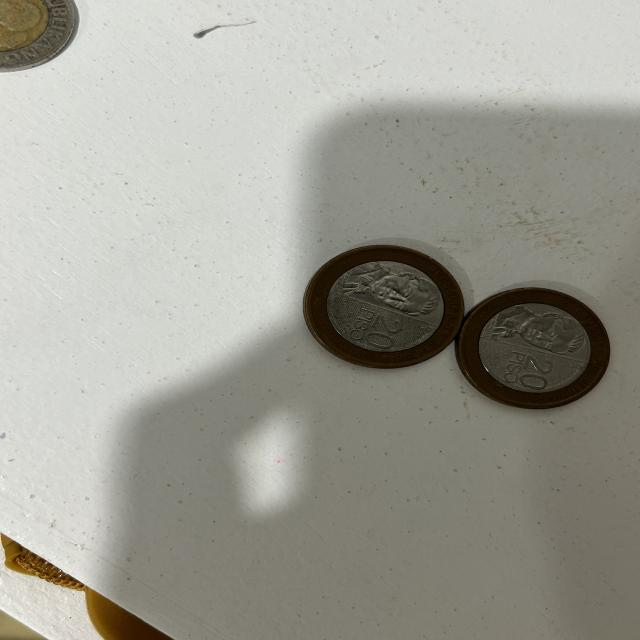20_New_Front: (345, 298, 411, 352), (502, 346, 561, 392)
